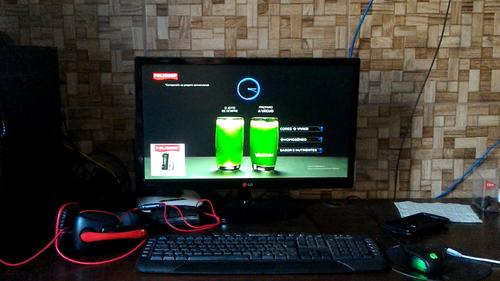Polishop #1: (150, 143, 186, 176)
